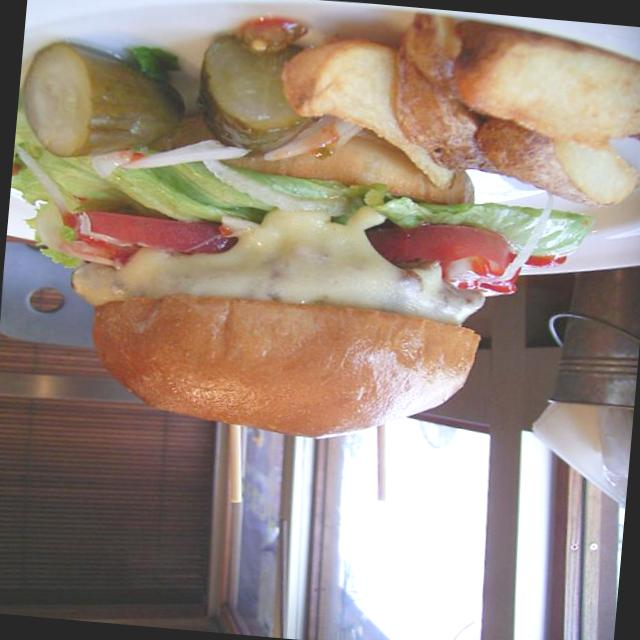Hamburger: (34, 40, 544, 457)
